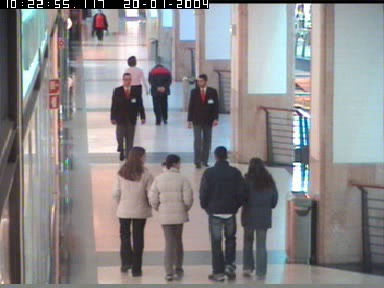person: (200, 147, 248, 281), (148, 153, 194, 280), (112, 147, 154, 277), (240, 158, 280, 280), (108, 73, 145, 163), (186, 74, 219, 167), (123, 56, 149, 124), (146, 57, 171, 124), (90, 8, 107, 40), (67, 16, 73, 53)
